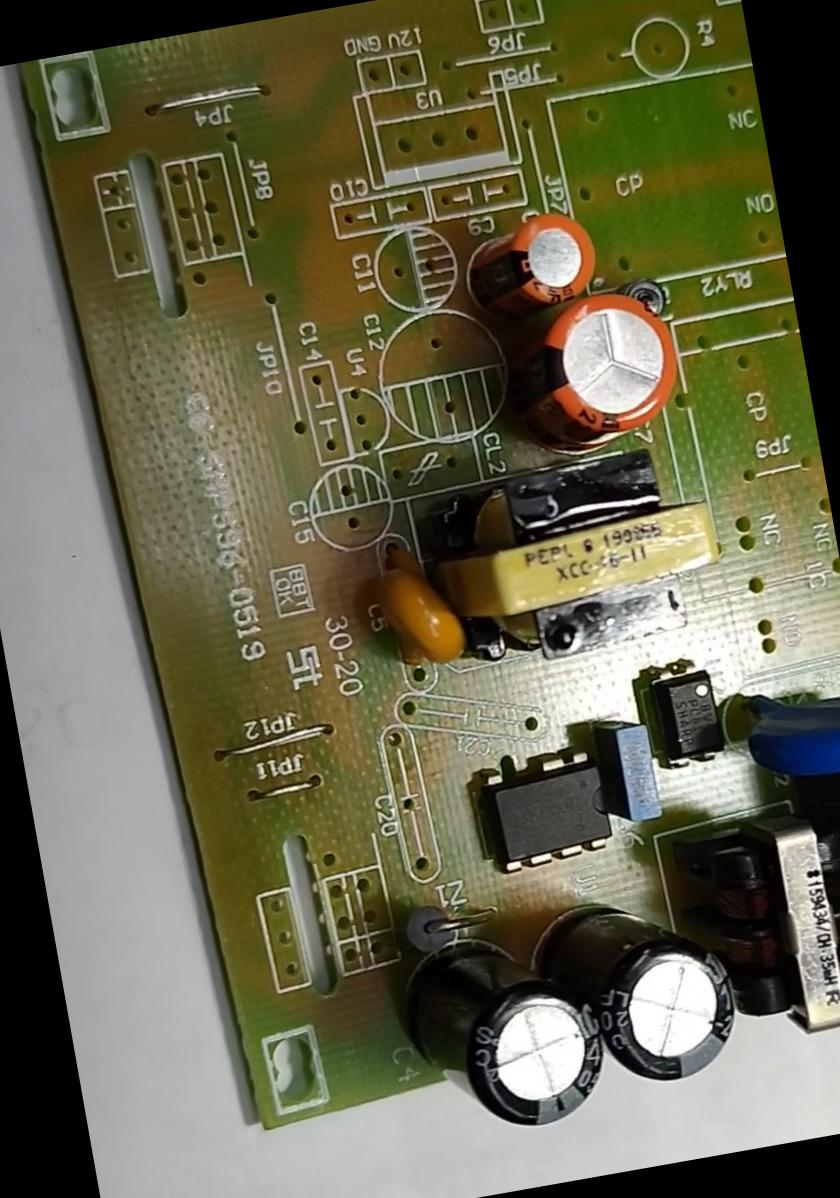Cap1: (507, 284, 686, 448)
Cap2: (462, 211, 604, 316)
Cap3: (574, 891, 748, 1093)
Cap4: (400, 924, 580, 1144)
MOSFET: (468, 740, 616, 874)
Mov: (732, 682, 839, 792)
Transformer: (464, 436, 730, 659), (693, 811, 839, 1047)
